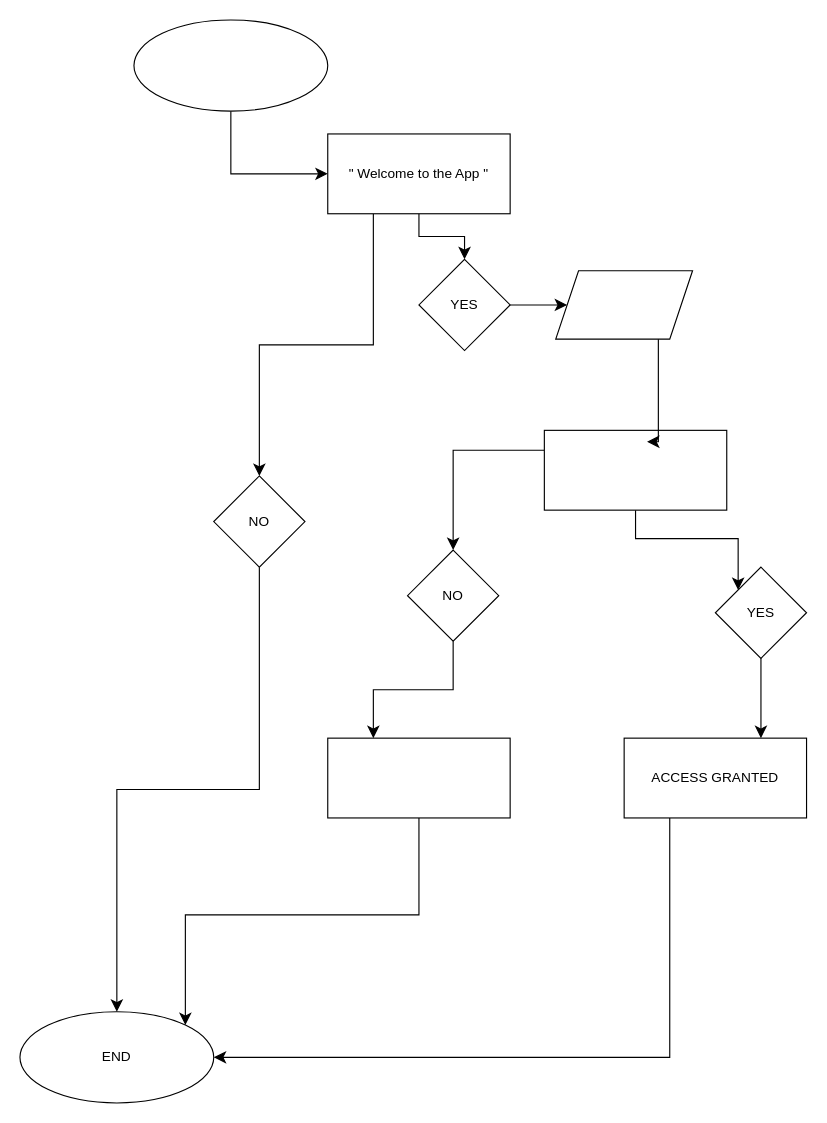
Image size: 827x1123. Some labels were removed from this diagram. The shapes that lost their labels are listed below. From the top down, each one's box as (x1, y1, x2, y2) in pixels, then its label:
(133, 19, 328, 111): START
(555, 270, 693, 339): Enter your PIN
(543, 429, 727, 510): PIN Okay
(327, 737, 510, 818): ACCESS DENIED
